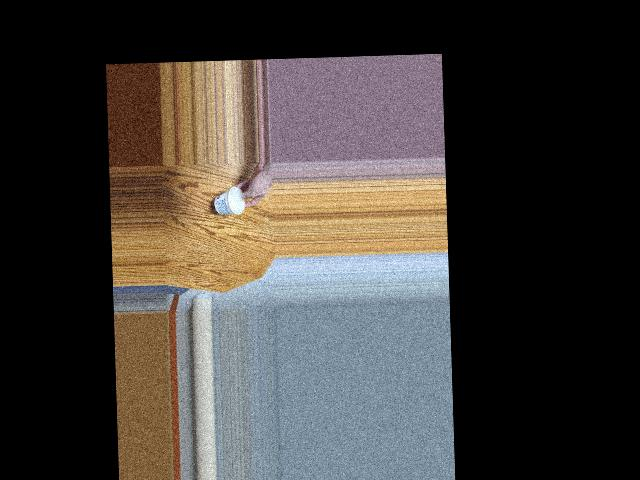cotage: (213, 187, 243, 218)
